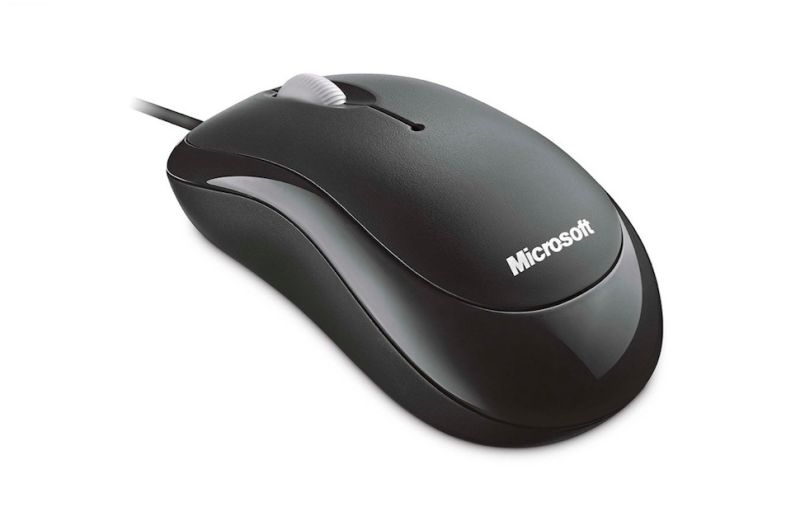Mouse: (166, 69, 674, 461)
